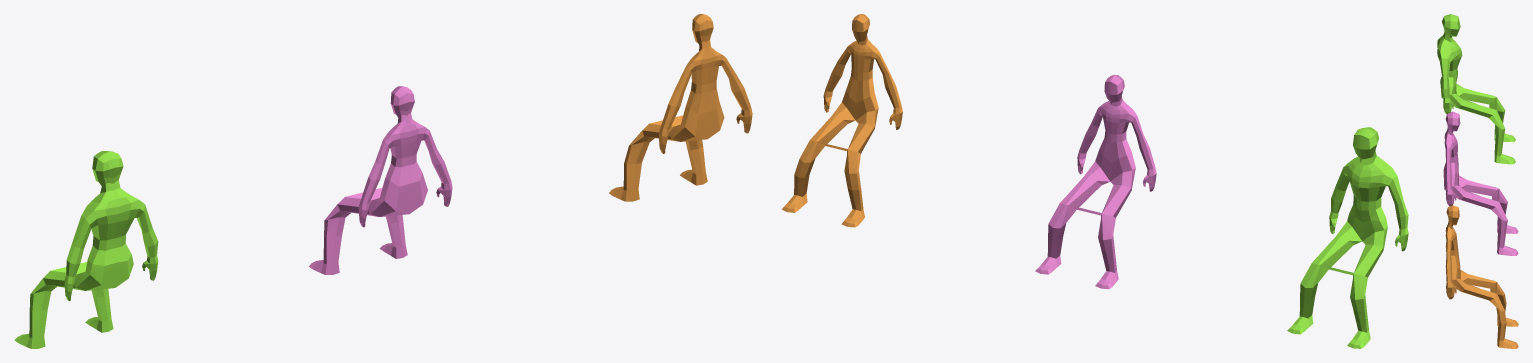
Rendered from row_4.glb.
The picture shows the model from 3 angles, left to right: view 1: azimuth 30°, elevation 25°; view 2: azimuth 150°, elevation 25°; view 3: azimuth 270°, elevation 25°; orthographic projection. The views are drawn at different scales.
Visible parts, largest first — view 1: Student.010, Student.011, Student.009; view 2: Student.010, Student.011, Student.009; view 3: Student.010, Student.011, Student.009.
Part boxes in pixels (box(x1,y1,x2,y2)): Student.010: box(14, 151, 158, 348); Student.011: box(309, 86, 452, 274); Student.009: box(609, 14, 752, 201); Student.010: box(1287, 127, 1408, 348); Student.011: box(1035, 74, 1156, 289); Student.009: box(781, 14, 902, 227); Student.010: box(1437, 14, 1515, 164); Student.011: box(1443, 111, 1518, 255); Student.009: box(1445, 205, 1518, 348).
Bounding box in the file's own units: 4.58 × 1.37 × 0.7439.
